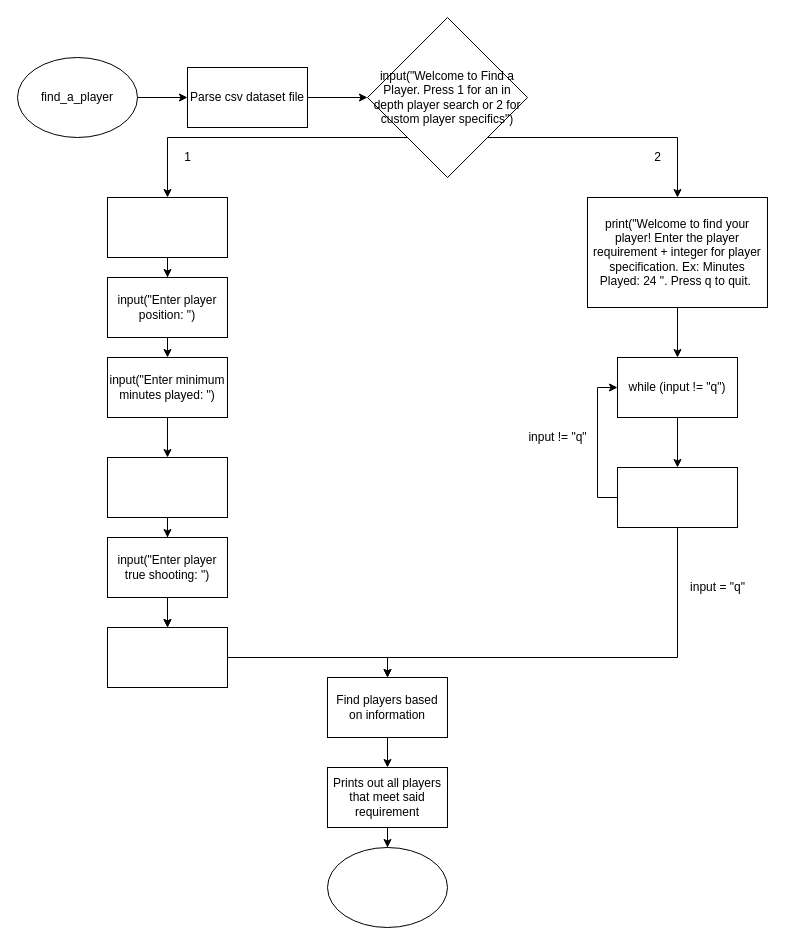
Some shapes in this 785 by 945 pixel diagram are drawn without their labels. Here are the shapes that lost their labels. From the top down, the box of each, then its label:
(106, 196, 228, 258): print("Welcome to find your player! Answer the questions to find your player")
(106, 456, 228, 518): input("Enter player efficiency rating: ")
(616, 466, 738, 528): input("Enter player specification & integer")
(106, 626, 228, 688): input("Enter 3 point attempt rate: ")
(326, 846, 448, 928): QED
